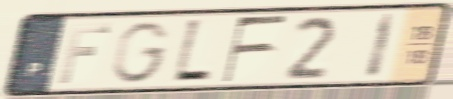2: (284, 14, 339, 82)
F: (219, 13, 291, 86), (55, 22, 115, 86)
G: (110, 19, 174, 85)
I: (362, 11, 399, 81)
L: (169, 16, 215, 86)
